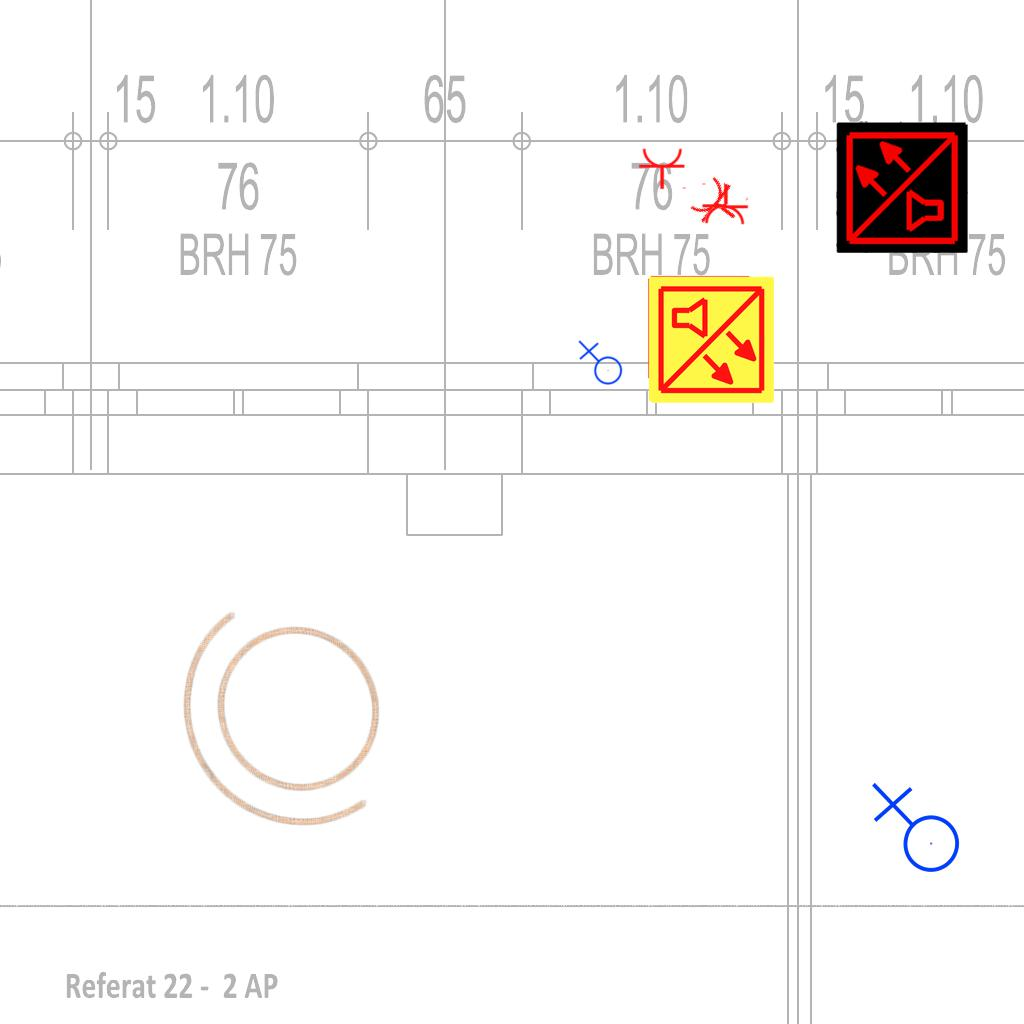Elektroanschluss_allgemein_230V_Geraeteanschlussdose_230V: (867, 782, 961, 881), (576, 340, 623, 389)
OKW_Multisensormelder_(Kombination_optischer_Rauch-Kahlenmonoxid_Waerme-Melder): (645, 274, 777, 406), (836, 121, 968, 253)
Scheinwerfer_fuer_Alarmbeleuchtung: (126, 546, 462, 893)
Schukosteckdose_einfach: (686, 171, 751, 237), (699, 182, 750, 226), (638, 147, 688, 190)
